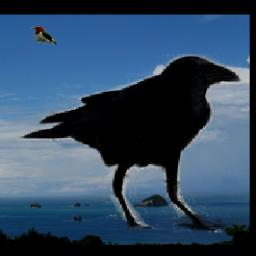Crow: (19, 54, 242, 233)
Woodpecker: (30, 26, 57, 44)
